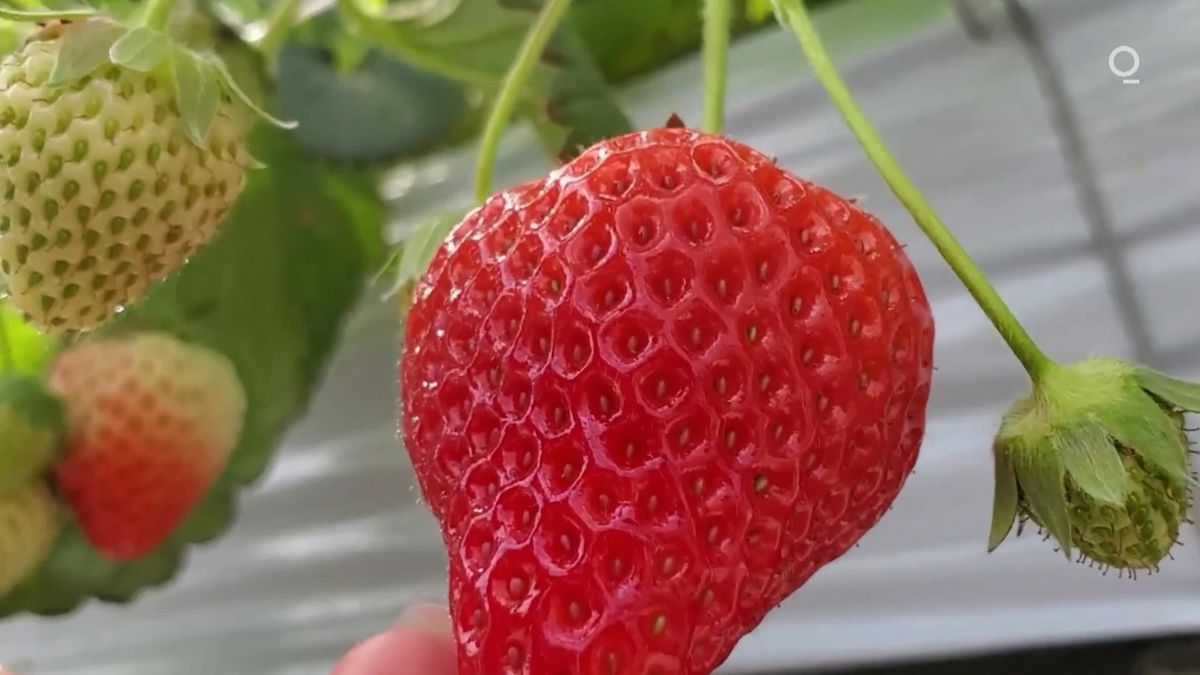ripe: (390, 102, 937, 669)
unripe: (0, 11, 259, 341), (42, 321, 260, 573), (1009, 328, 1199, 580)
